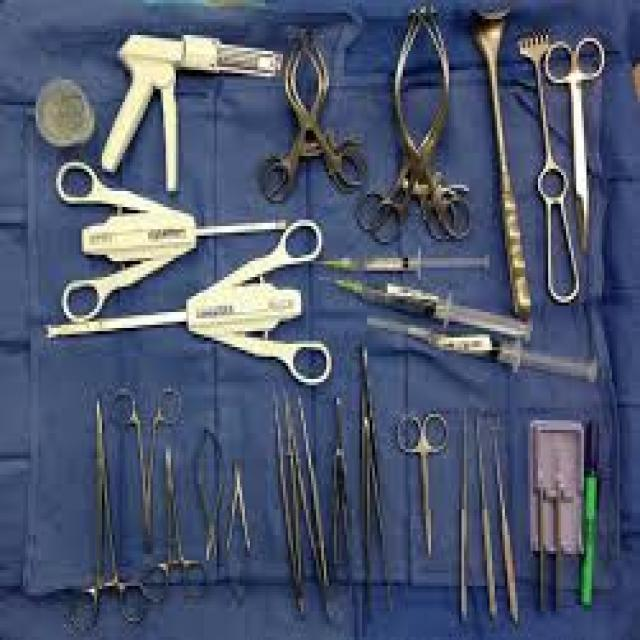tools_table: (5, 0, 634, 632)
